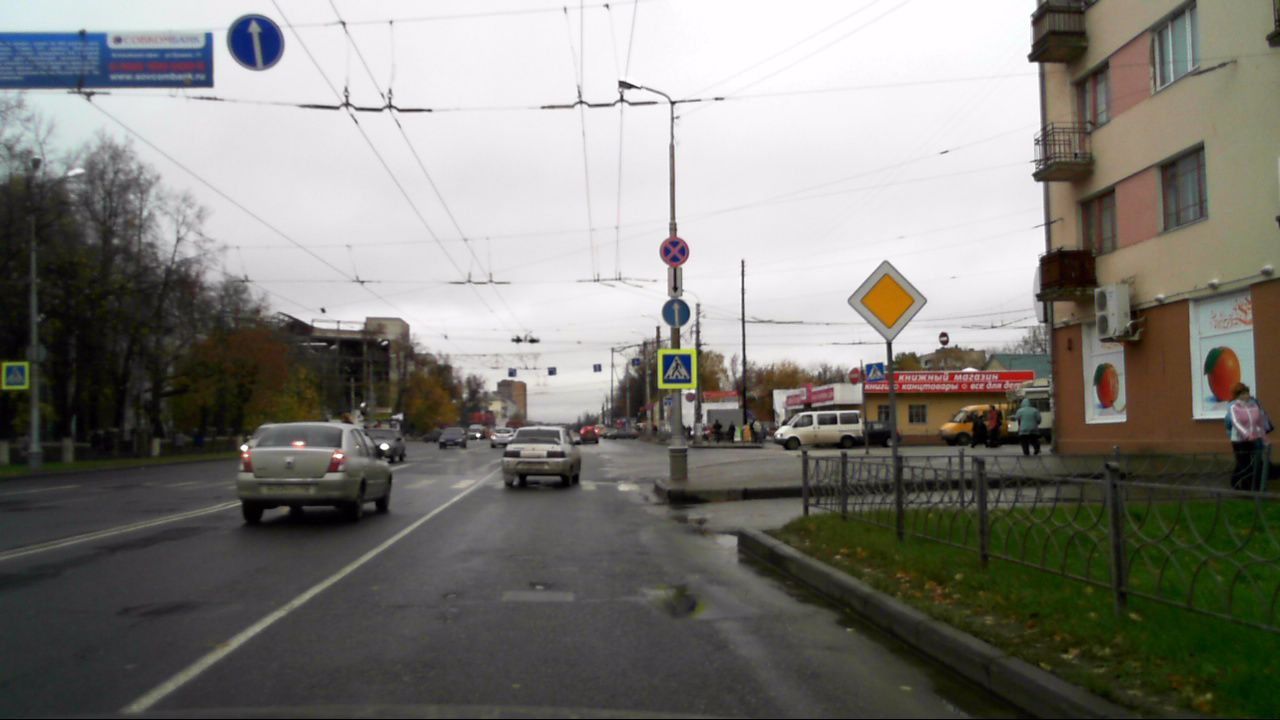No Parking: (659, 237, 689, 266)
